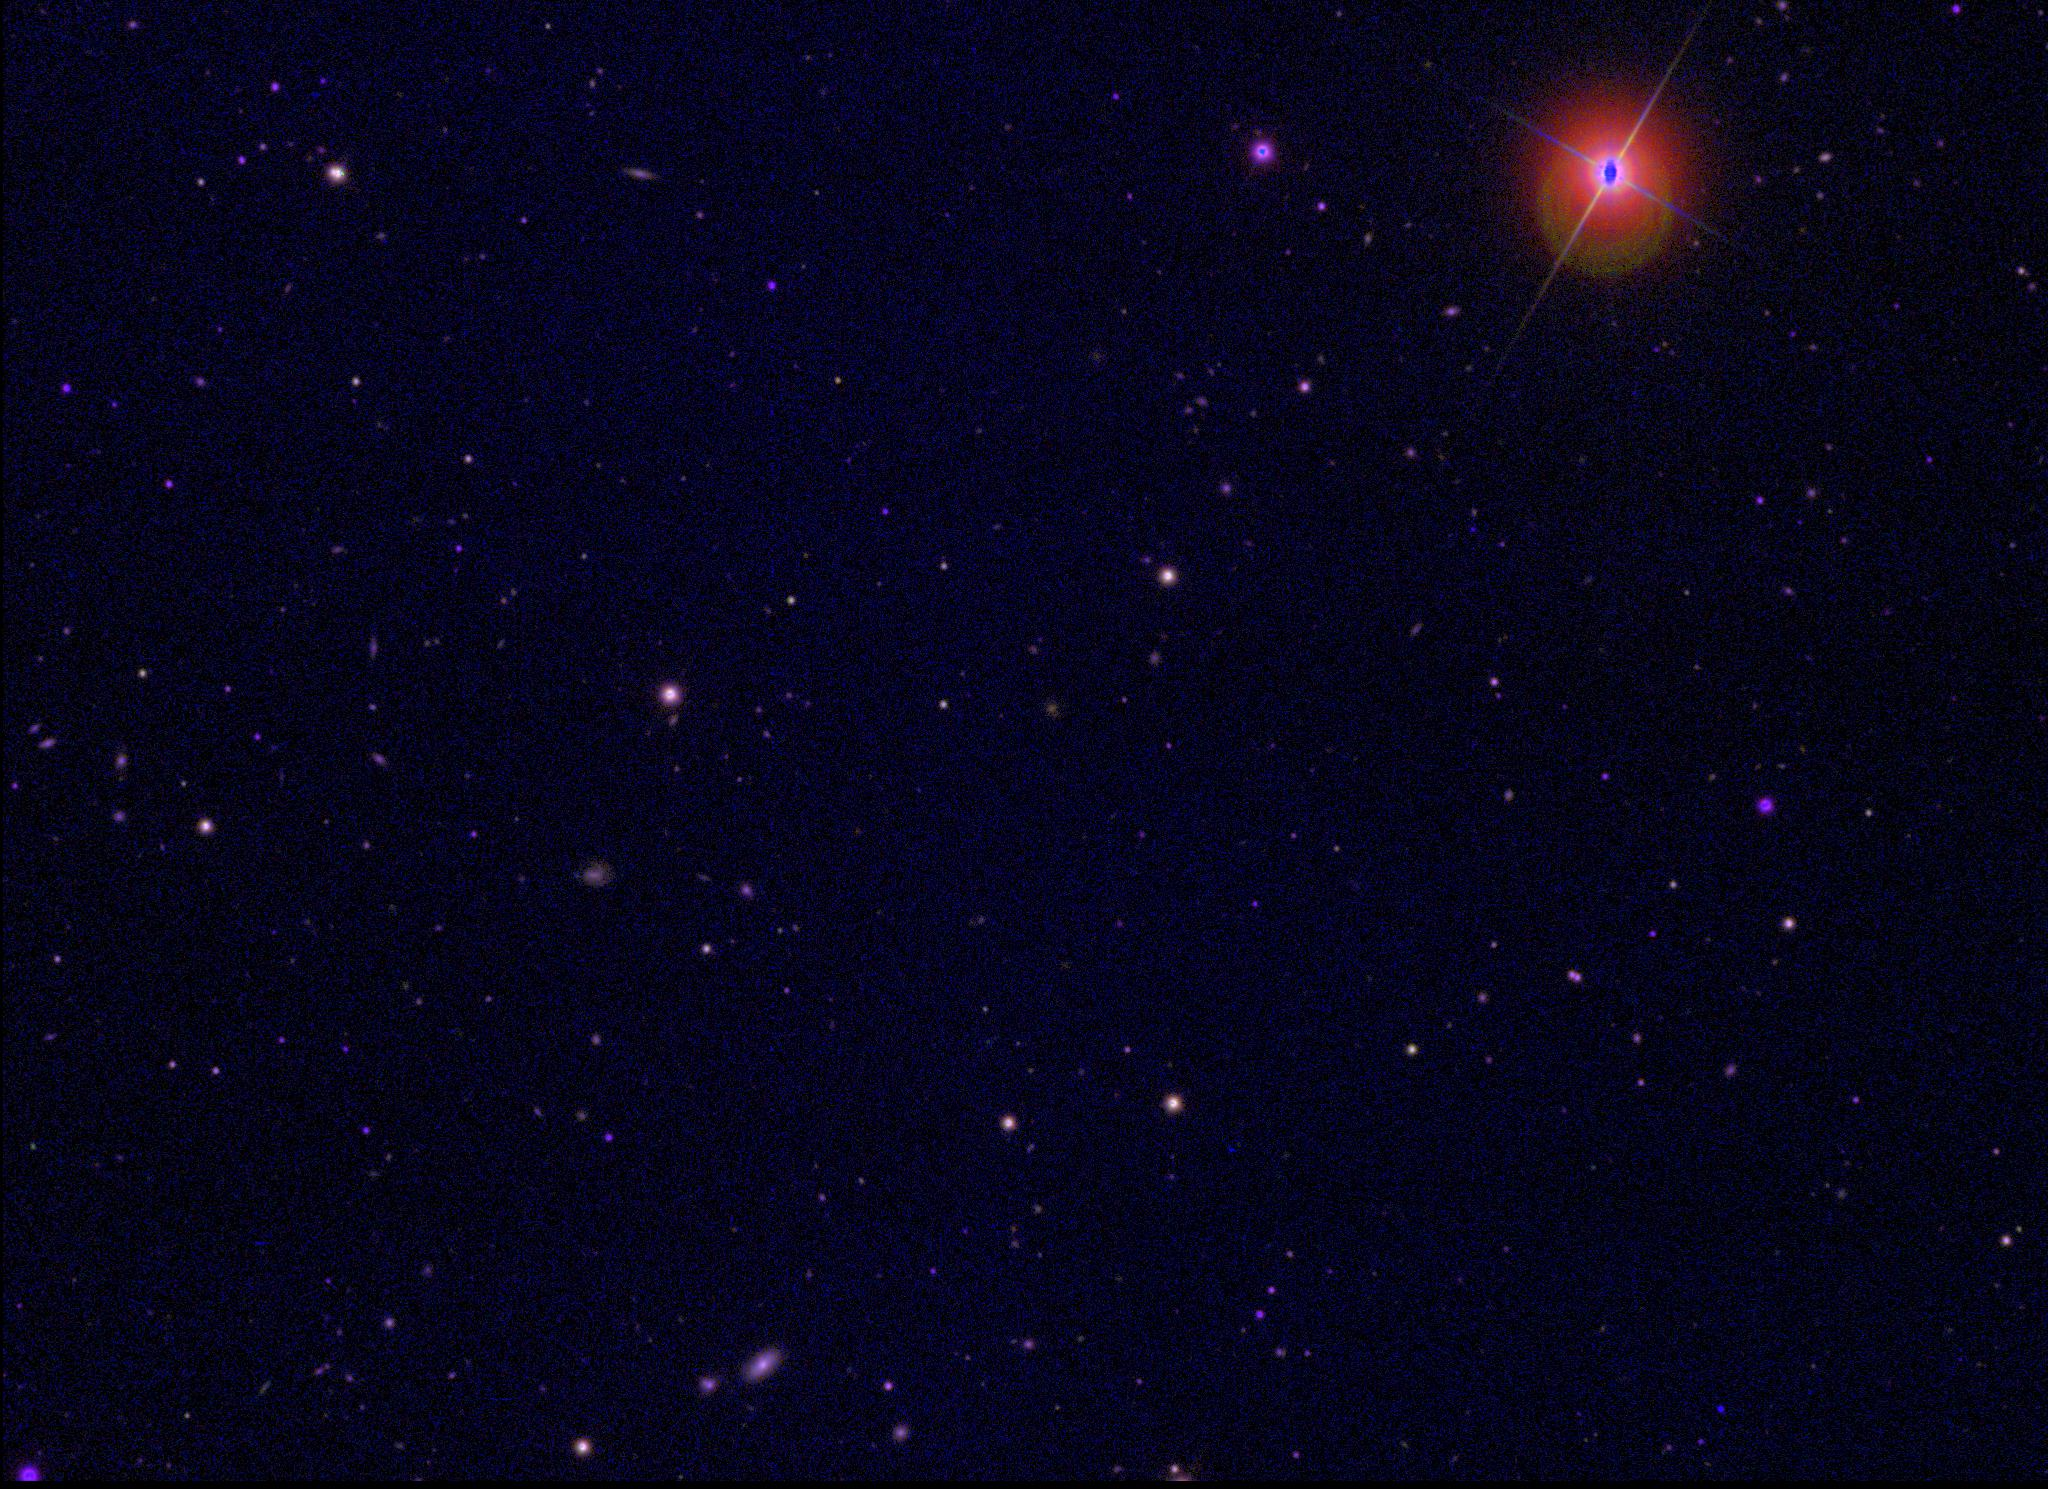L: (1716, 1402, 1728, 1416)
